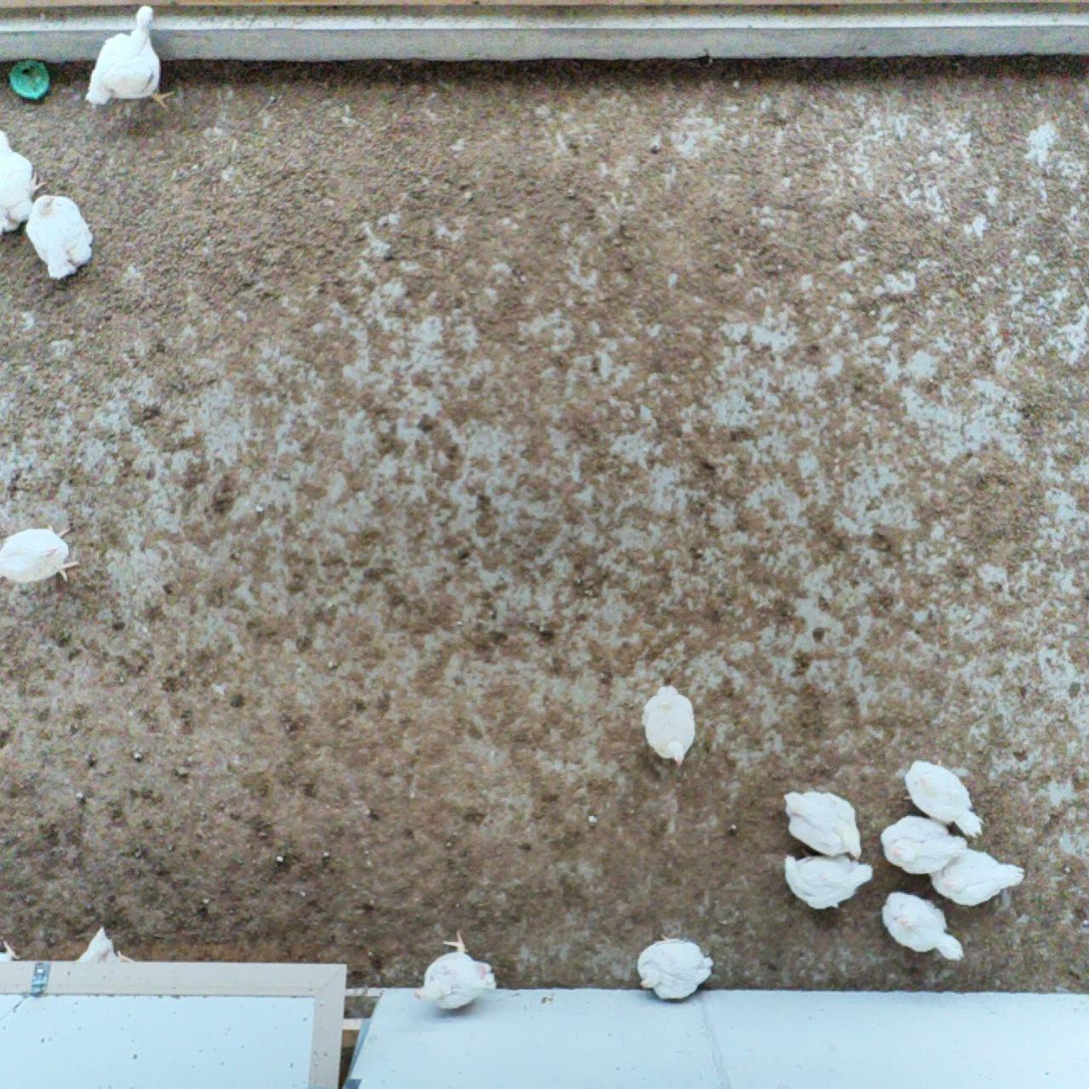chicken: (84, 0, 179, 115), (898, 753, 987, 840), (411, 928, 499, 1014), (21, 191, 97, 284), (877, 887, 967, 965), (779, 788, 867, 863), (778, 848, 876, 914), (929, 844, 1028, 908), (633, 928, 716, 1002), (876, 812, 969, 878), (0, 518, 83, 589), (638, 682, 699, 770), (0, 127, 48, 237), (70, 922, 136, 965)
